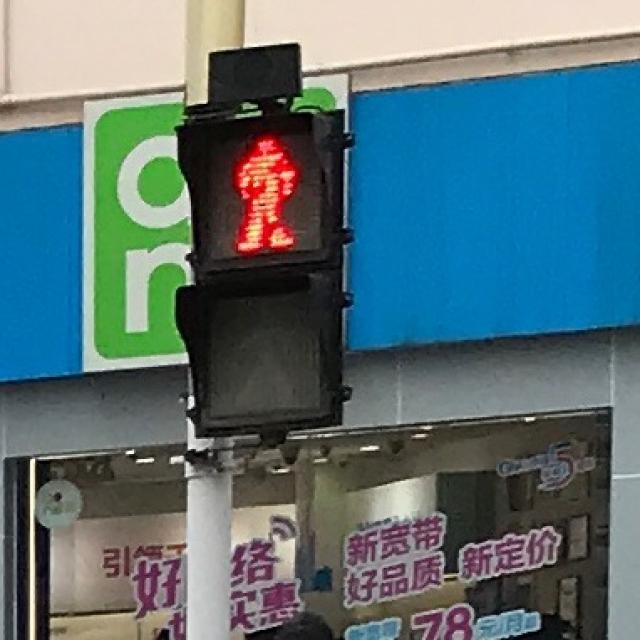red_light: (218, 126, 303, 263)
